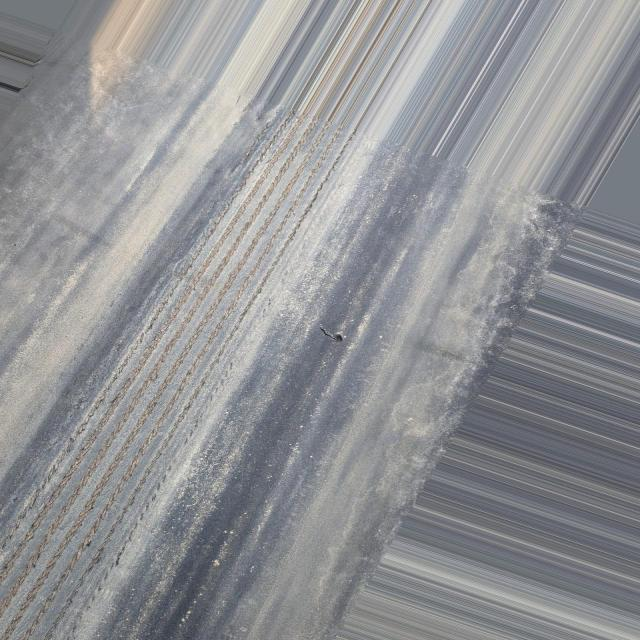Tear: (308, 307, 358, 355)
Wear: (2, 111, 369, 640)
